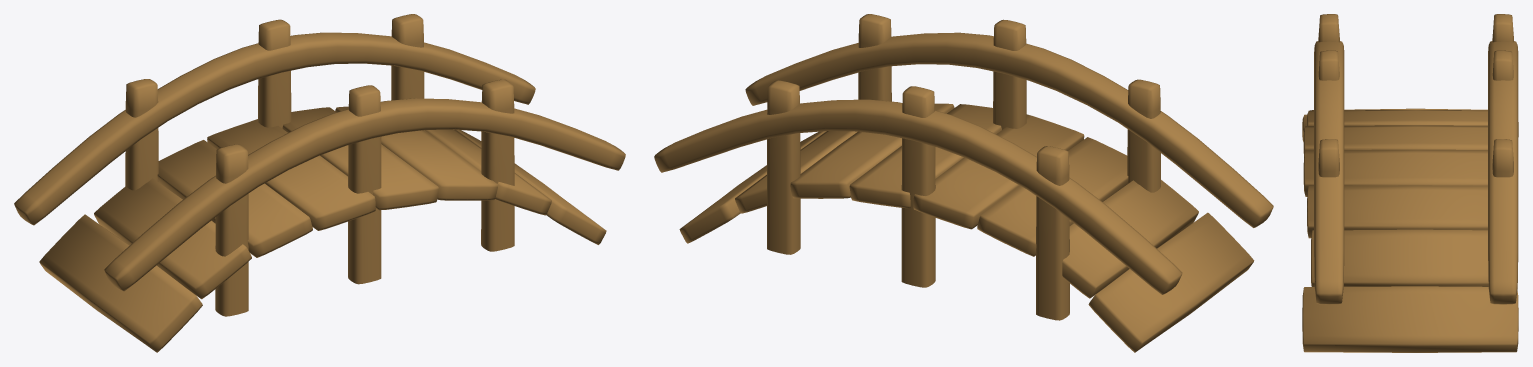
Rendered from Bridge_Small.glb.
3 views of the same model, side by side, from view 1: azimuth 30°, elevation 25°; view 2: azimuth 150°, elevation 25°; view 3: azimuth 270°, elevation 25° (orthographic). The views are drawn at different scales.
Parts seen in each view (by area): view 1: Bridge_Small; view 2: Bridge_Small; view 3: Bridge_Small.
Part boxes in pixels (left/top/right/bottom): Bridge_Small: left=14, top=14, right=625, bottom=352; Bridge_Small: left=654, top=14, right=1273, bottom=352; Bridge_Small: left=1302, top=14, right=1518, bottom=352.
Size of the model in its own units: 6.94 by 2.62 by 2.64.
